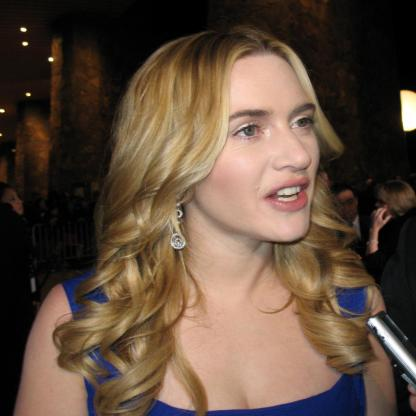face: (195, 41, 319, 242), (378, 188, 399, 223), (336, 191, 358, 221), (3, 188, 27, 214)
